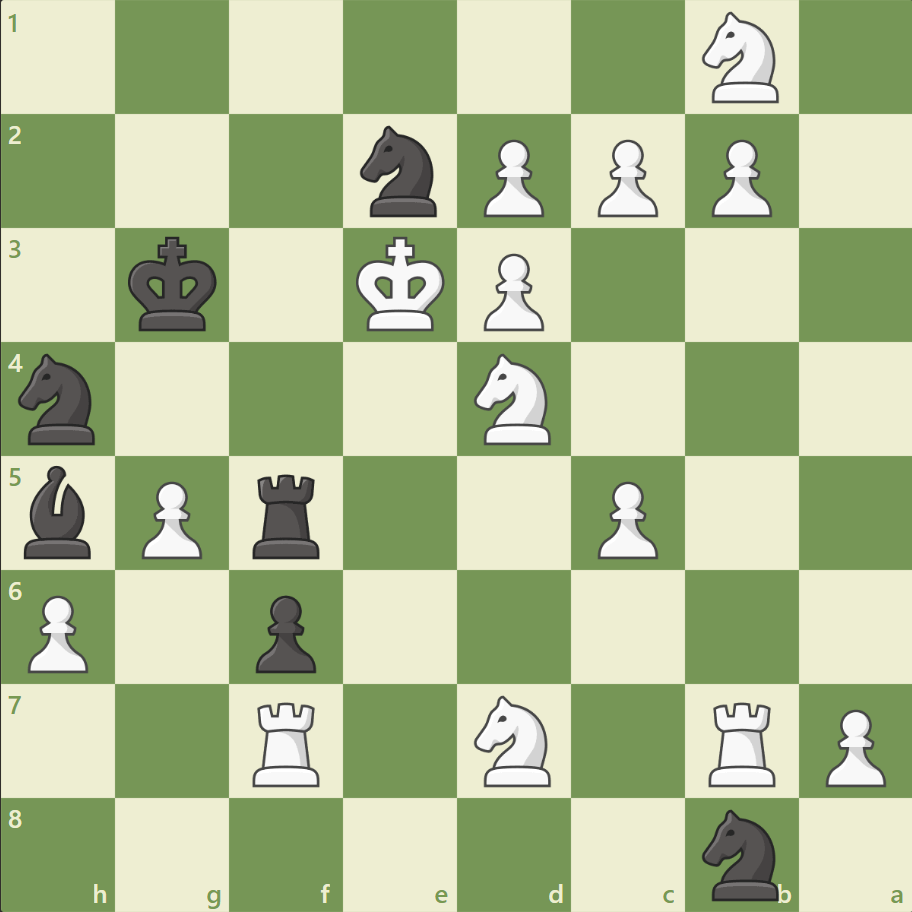K: (351, 231, 451, 339)
N: (465, 688, 562, 791), (692, 7, 789, 110), (465, 348, 562, 450)
P: (20, 586, 95, 677), (133, 473, 208, 564), (474, 246, 549, 337), (701, 132, 776, 223), (474, 132, 549, 223), (815, 700, 889, 791), (588, 473, 662, 564), (588, 132, 662, 223)
R: (700, 693, 783, 790), (246, 693, 329, 790)
b: (17, 460, 101, 563)
k: (124, 231, 224, 339)
n: (351, 121, 449, 223), (692, 802, 789, 904), (11, 348, 108, 450)
p: (247, 586, 322, 677)
r: (246, 466, 329, 563)
